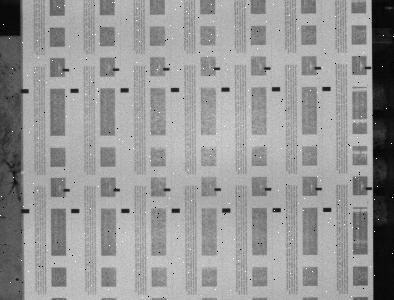backgroundclutter: (16, 278, 19, 281)
qblock: (21, 208, 30, 213), (121, 208, 130, 213), (323, 207, 332, 212), (171, 87, 180, 92), (70, 88, 79, 93), (172, 208, 180, 213), (222, 87, 230, 92), (323, 86, 331, 91), (222, 208, 231, 212), (20, 89, 29, 93), (120, 88, 129, 92), (272, 87, 281, 91), (273, 208, 281, 212), (71, 209, 79, 213)
smallqblock: (63, 188, 70, 192), (265, 187, 272, 191), (163, 67, 170, 71), (62, 68, 69, 72), (315, 187, 322, 190), (113, 188, 120, 191), (164, 188, 171, 191), (366, 187, 373, 190), (214, 67, 221, 70), (315, 67, 322, 70), (264, 67, 271, 70), (215, 188, 221, 191), (366, 66, 372, 69), (113, 68, 119, 71)
